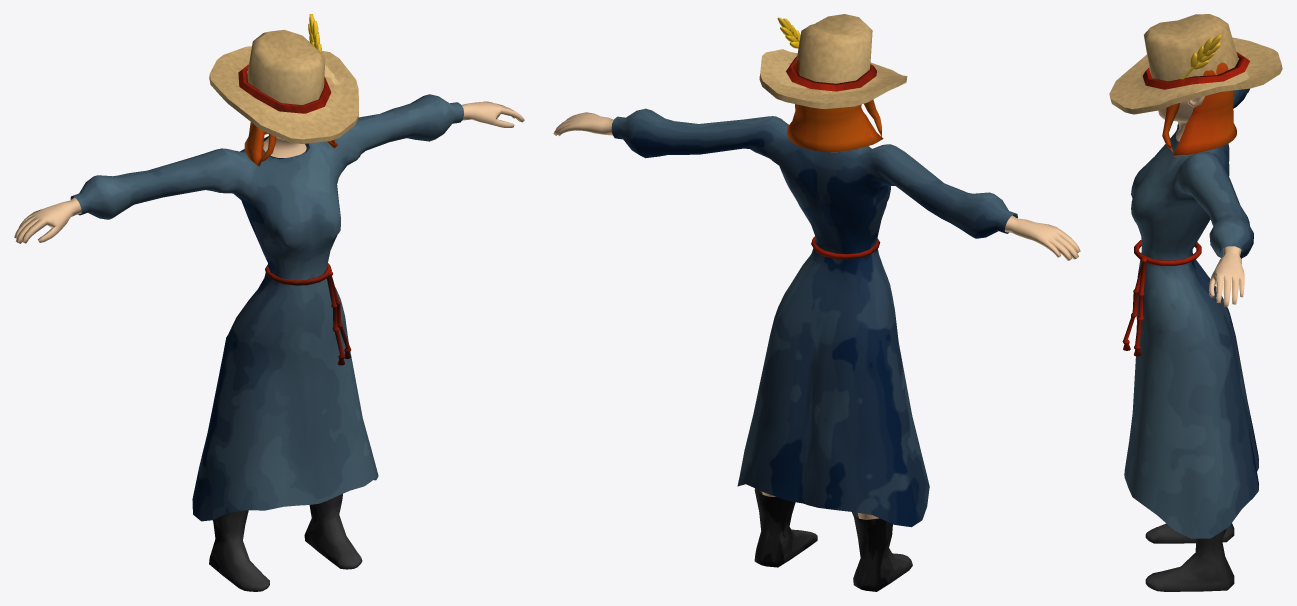
Rendered from kadinhasta.fbx.
3 renders of one model, left to right at view 1: azimuth 30°, elevation 25°; view 2: azimuth 150°, elevation 25°; view 3: azimuth 270°, elevation 25°, orthographic. The views are drawn at different scales.
Parts seen in each view (by area): view 1: Character.001; view 2: Character.001; view 3: Character.001.
Part boxes in pixels (bbox=[...]): Character.001: bbox=[14, 14, 524, 591]; Character.001: bbox=[553, 14, 1080, 591]; Character.001: bbox=[1109, 14, 1282, 591].
Size of the model in its own units: 213 by 213 by 61.22.
Materials: 1 (1 with a texture image).
